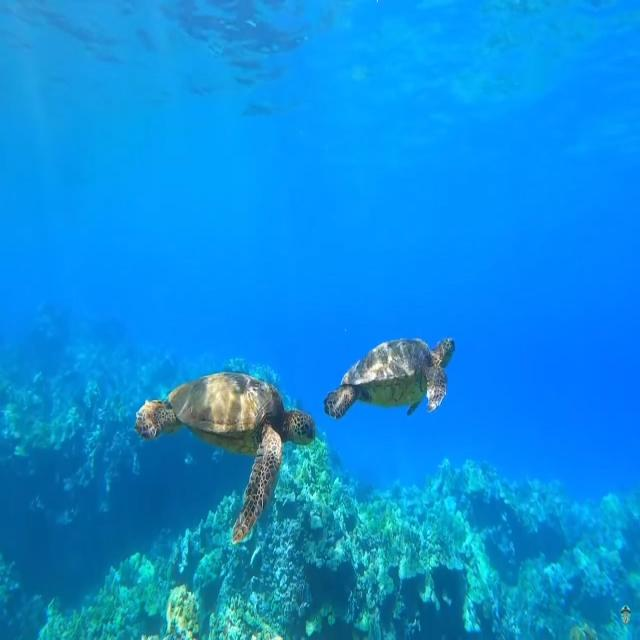Sea turtle: (134, 368, 314, 535), (327, 332, 457, 418)
